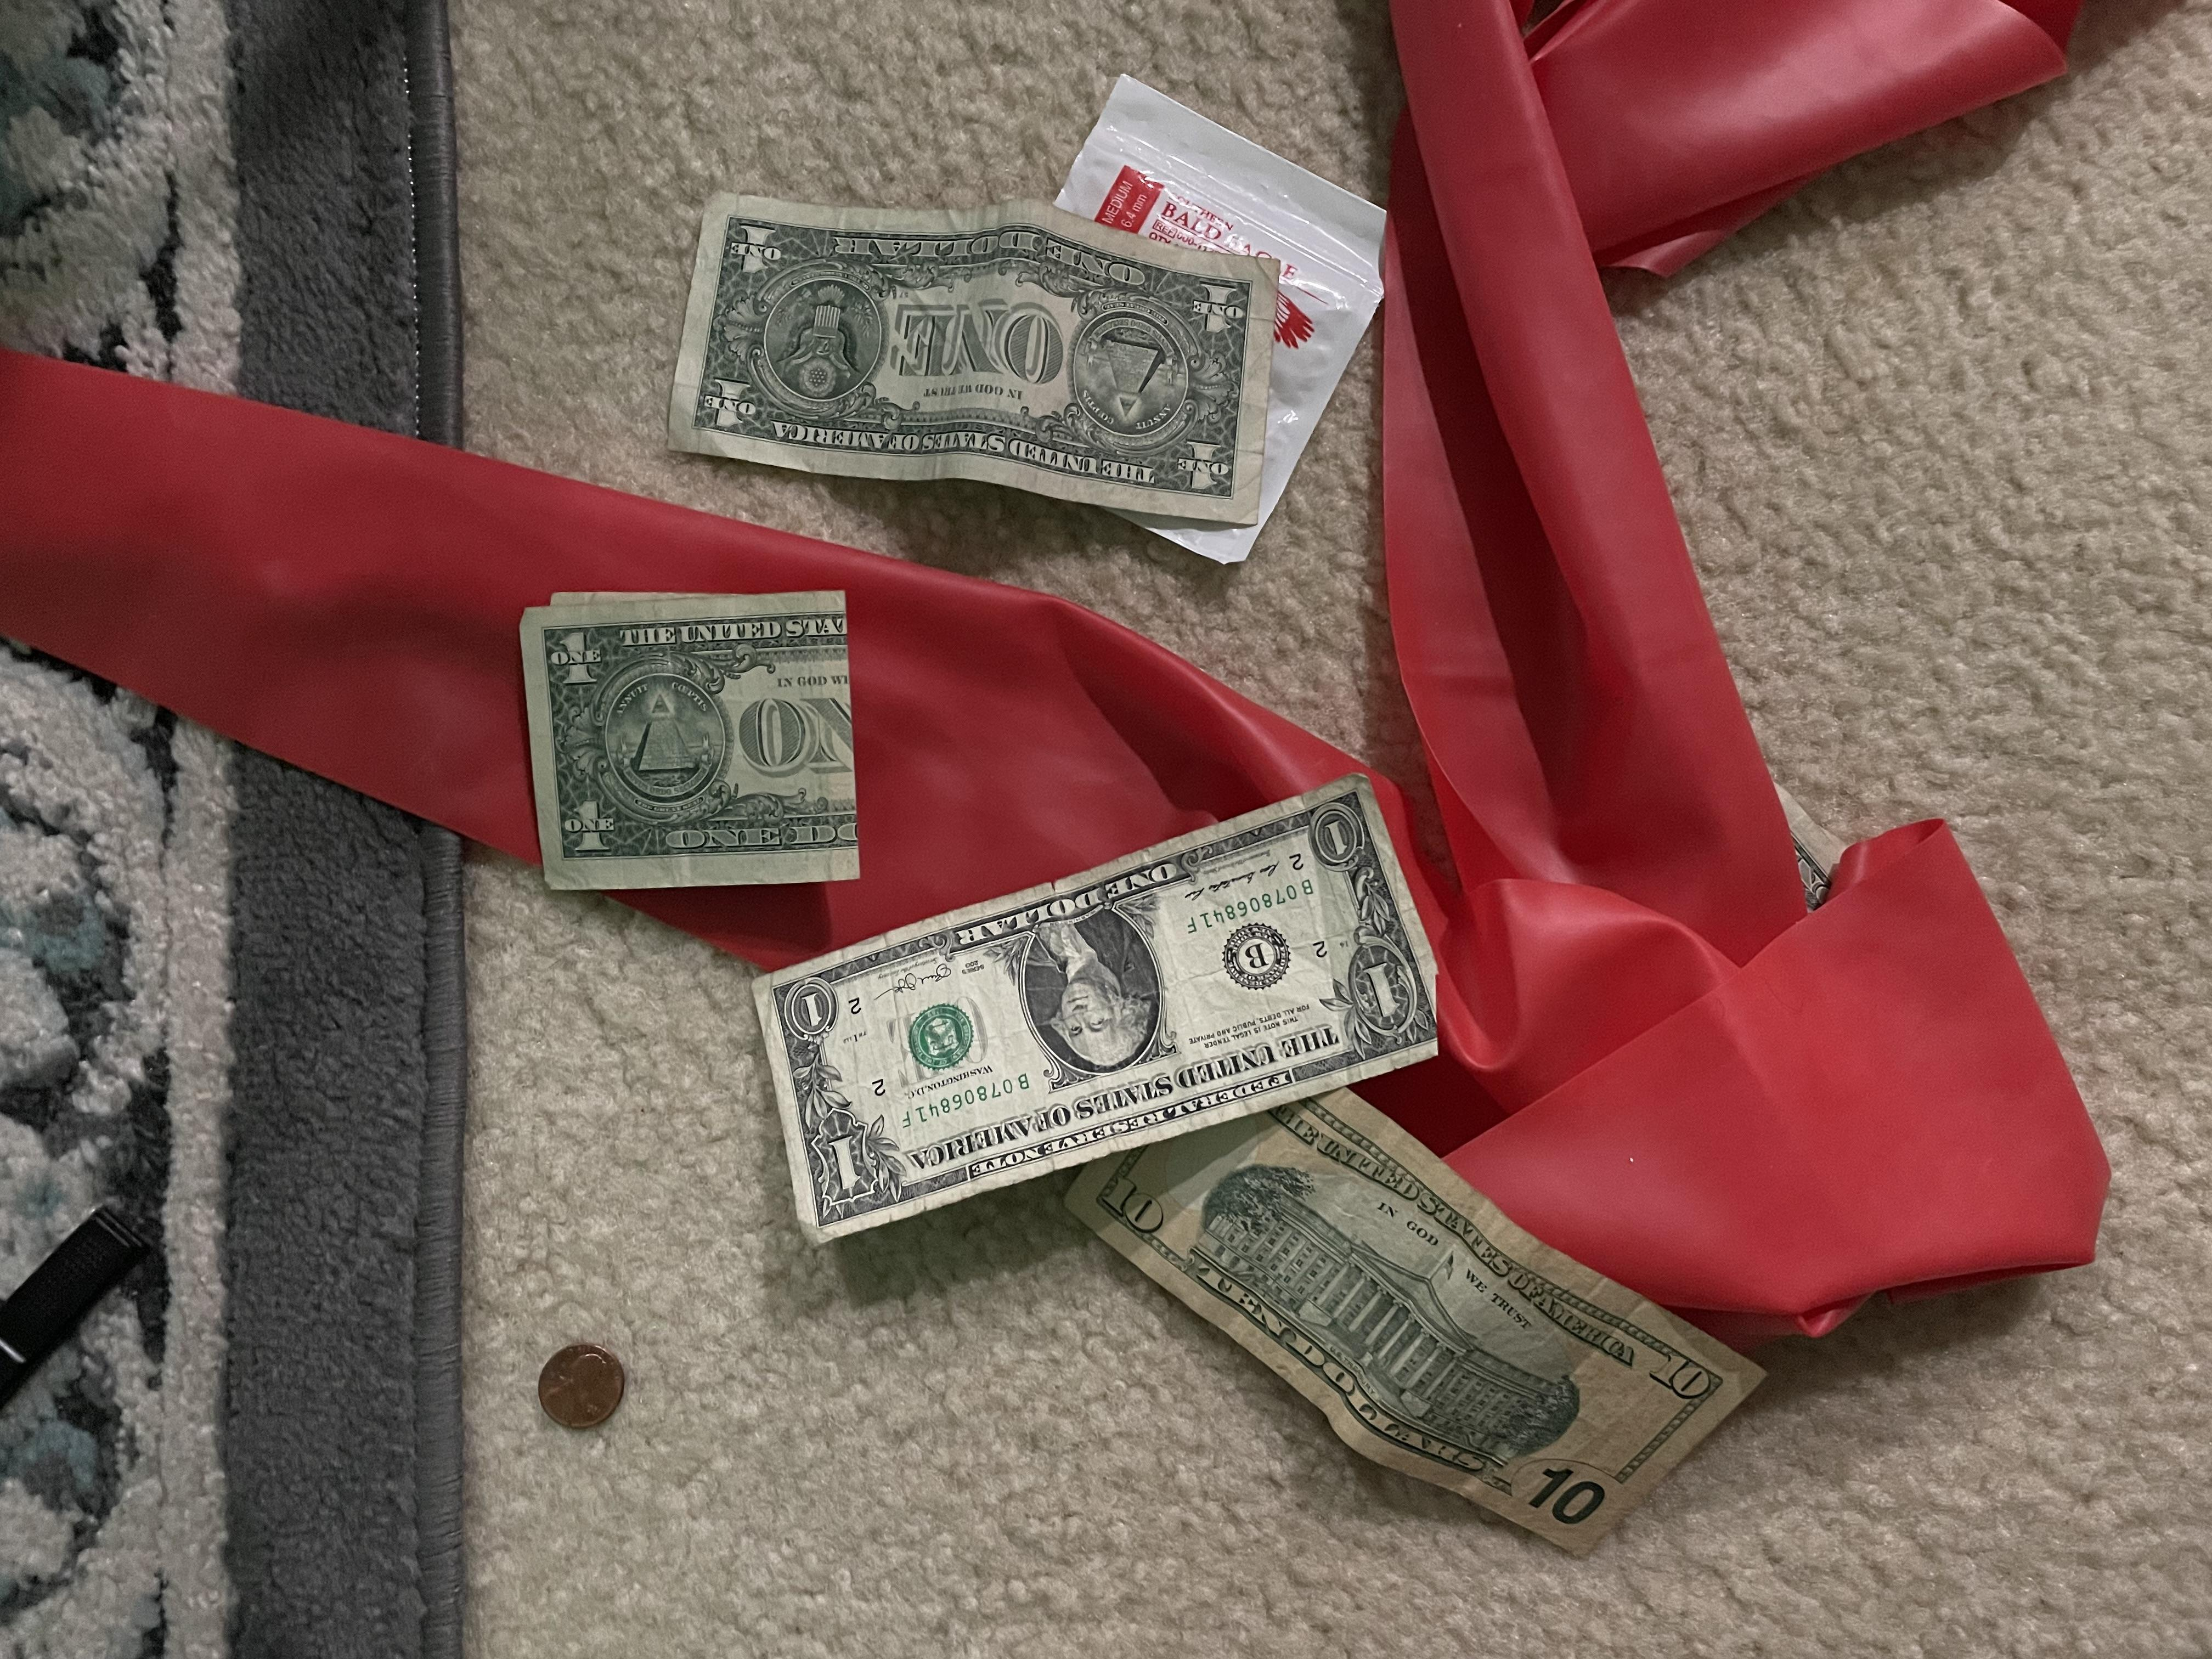OneBill: (1059, 1051, 1775, 1577), (732, 770, 1456, 1243), (667, 190, 1284, 532), (495, 587, 897, 899)
Penny: (529, 1340, 634, 1432)
